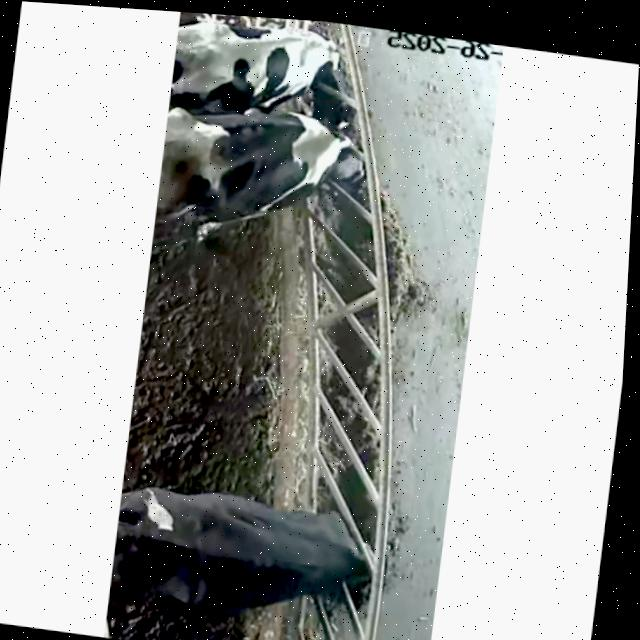eat: (193, 484, 430, 631), (195, 94, 419, 226), (210, 14, 400, 129)
